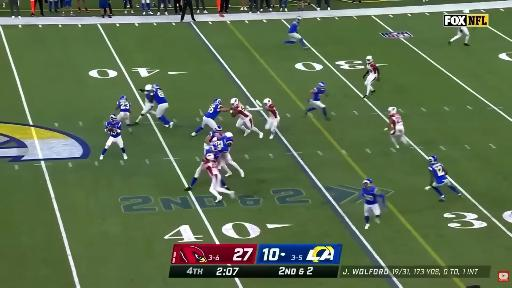Helmet: (224, 133, 233, 146), (363, 179, 372, 187), (388, 106, 397, 114), (231, 98, 239, 106), (428, 156, 437, 163), (110, 114, 117, 122), (151, 84, 160, 90), (263, 99, 271, 105), (206, 154, 214, 160), (215, 125, 222, 131), (225, 132, 233, 137), (366, 56, 372, 62), (363, 179, 372, 183), (464, 9, 470, 15), (120, 96, 127, 101), (214, 99, 221, 104), (145, 85, 152, 90), (319, 82, 325, 87), (296, 17, 302, 21)
Jersey: (428, 162, 447, 184), (210, 137, 230, 154), (204, 103, 222, 119), (362, 186, 377, 205), (105, 122, 122, 137), (234, 104, 251, 119), (205, 160, 220, 176), (389, 113, 403, 128), (154, 89, 167, 105), (209, 131, 223, 144), (313, 87, 325, 101), (267, 104, 278, 119), (367, 62, 378, 75), (117, 101, 130, 112), (206, 149, 220, 159), (288, 22, 298, 33), (146, 93, 154, 103)
Player: (204, 133, 244, 176), (425, 156, 462, 201), (211, 133, 244, 177), (204, 154, 234, 202), (192, 99, 230, 136), (185, 150, 219, 190), (231, 98, 263, 138), (360, 179, 385, 229), (144, 84, 173, 127), (100, 114, 127, 159), (385, 107, 408, 148), (305, 82, 329, 120), (152, 84, 173, 127), (135, 85, 155, 124), (284, 17, 308, 49), (363, 56, 379, 98), (263, 99, 279, 139), (116, 96, 132, 133), (204, 126, 223, 149), (449, 27, 469, 45)
